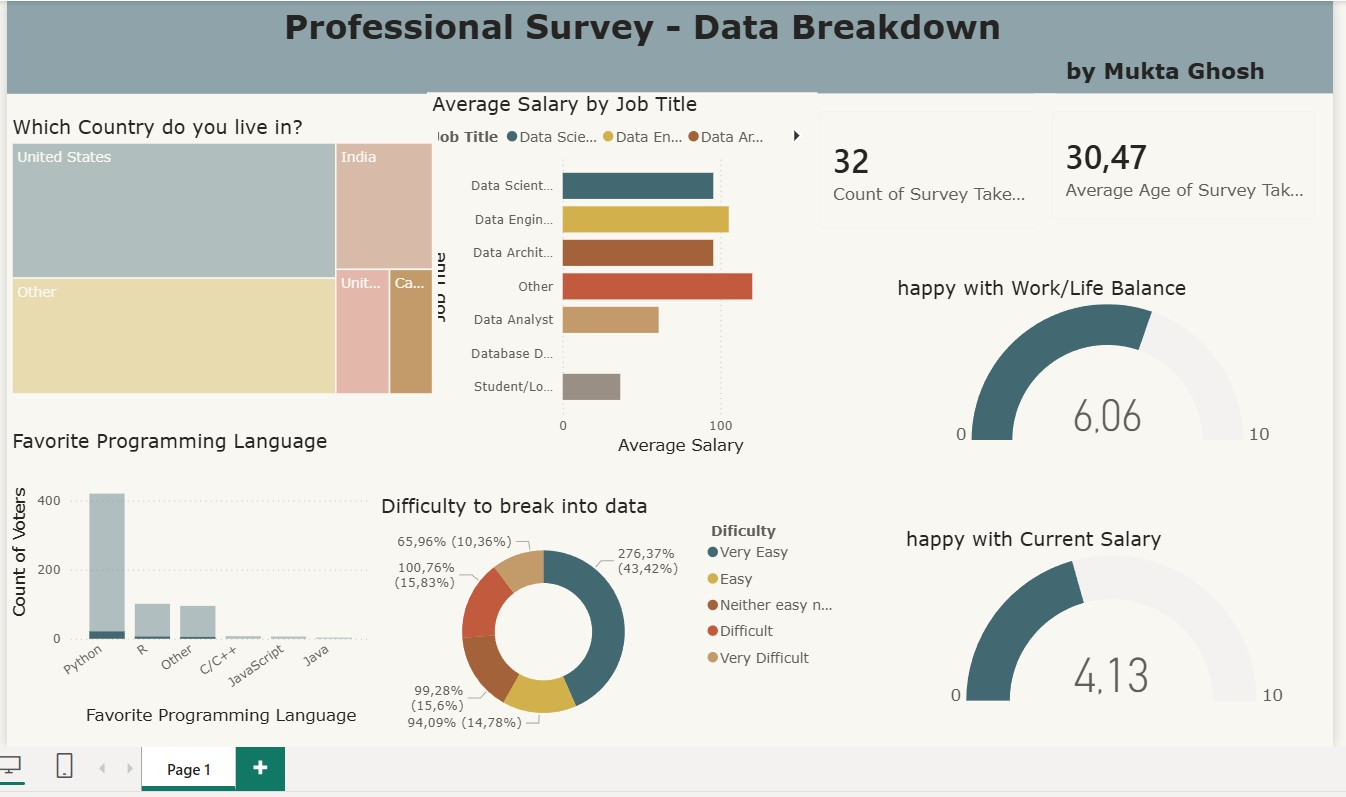

The page's visual inventory and layout, read from the dashboard file:
{"tool":"powerbi","page":{"name":"Page 1","canvas":[1280,720],"ordinal":0},"visuals":[{"type":"textbox","box":[0,0,1280.3,89.4],"z":0},{"type":"cardVisual","fields":{"Data":["CountNonNull(Professional Survey-Data.Unique ID)"]},"box":[767.1,89.4,244.9,147.7],"z":1000},{"type":"cardVisual","fields":{"Data":["Avg(Professional Survey-Data.Q10 - Current Age)"]},"box":[991.3,89.4,289,139.9],"z":2000},{"type":"barChart","title":"Average Salary by Job Title","fields":{"Y":["Avg(Professional Survey-Data.Average Salary)"],"Category":["Professional Survey-Data.Q1 - Which Title Best Fits your Current Role?.1"],"Series":["Professional Survey-Data.Q1 - Which Title Best Fits your Current Role?.1"]},"box":[405.6,88.1,399.1,355.1],"z":3000},{"type":"clusteredColumnChart","title":" Favorite Programming Language","fields":{"Category":["Professional Survey-Data.Q5 - Favorite Programming Language.1"],"Y":["CountNonNull(Professional Survey-Data.Unique ID)"]},"box":[0,412.1,356.3,290.3],"z":4000},{"type":"treemap","title":"Which Country do you live in?","fields":{"Group":["Professional Survey-Data.Q11 - Which Country do you live in?.1"],"Values":["CountNonNull(Professional Survey-Data.Q11 - Which Country do you live in?.1)"]},"box":[0,110.1,416,274.7],"z":5000},{"type":"gauge","title":"happy with Current Salary","fields":{"Y":["Avg(Professional Survey-Data.Q6 - How Happy are you in your Current Position with the following? (Salary))"],"MinValue":["Min(Professional Survey-Data.Q6 - How Happy are you in your Current Position with the following? (Salary))"],"MaxValue":["Max(Professional Survey-Data.Q6 - How Happy are you in your Current Position with the following? (Salary))"]},"box":[863,508,417.3,177.5],"z":6000},{"type":"gauge","title":" happy with Work/Life Balance","fields":{"Y":["Avg(Professional Survey-Data.Q6 - How Happy are you in your Current Position with the following? (Work/Life Balance))"],"MinValue":["Min(Professional Survey-Data.Q6 - How Happy are you in your Current Position with the following? (Work/Life Balance))1"],"MaxValue":["Max(Professional Survey-Data.Q6 - How Happy are you in your Current Position with the following? (Work/Life Balance))"]},"box":[853.9,265.6,426.3,168.5],"z":7000},{"type":"donutChart","title":"Difficulty to break into data","fields":{"Category":["Professional Survey-Data.Q7 - How difficult was it for you to break into Data?"],"Y":["Sum(Professional Survey-Data.Average Salary)"]},"box":[355.9,475.5,460.1,244.8],"z":8000}]}

Visuals, with their boxes on the page's 1280x720 design canvas (x1, y1, x2, y2). These are canvas units, not pixel positions in the 1346x797 screenshot, which may show the page scaled, cropped or inside an application window:
textbox: <region>0, 0, 1280, 89</region>
cardVisual - CountNonNull(Professional Survey-Data.Unique ID): <region>767, 89, 1012, 237</region>
cardVisual - Avg(Professional Survey-Data.Q10 - Current Age): <region>991, 89, 1280, 229</region>
"Average Salary by Job Title" barChart: <region>406, 88, 805, 443</region>
" Favorite Programming Language" clusteredColumnChart: <region>0, 412, 356, 702</region>
"Which Country do you live in?" treemap: <region>0, 110, 416, 385</region>
"happy with Current Salary" gauge: <region>863, 508, 1280, 686</region>
" happy with Work/Life Balance" gauge: <region>854, 266, 1280, 434</region>
"Difficulty to break into data" donutChart: <region>356, 476, 816, 720</region>
